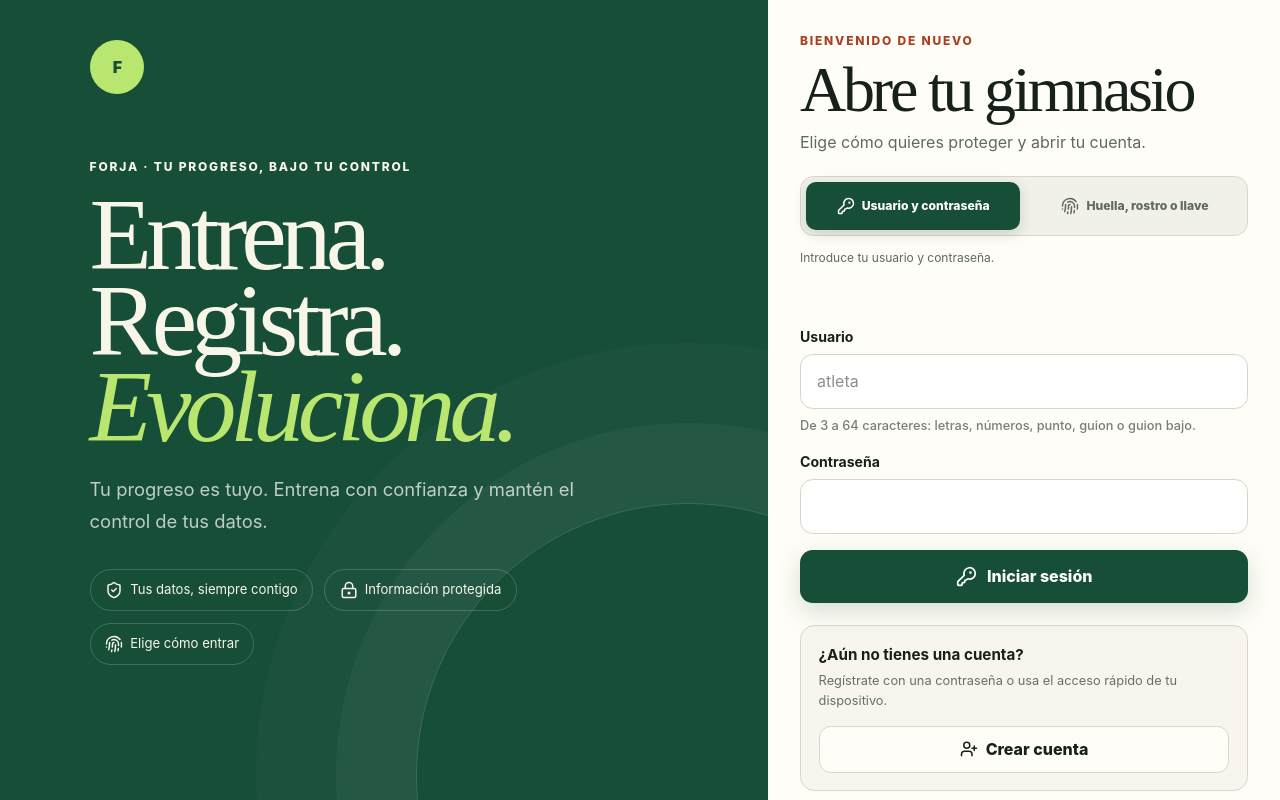
AuthScreen › replaces internal access errors with useful guidance
Click the button "Huella, rostro o llave" at (1135, 206), box [1028,182,1242,230]
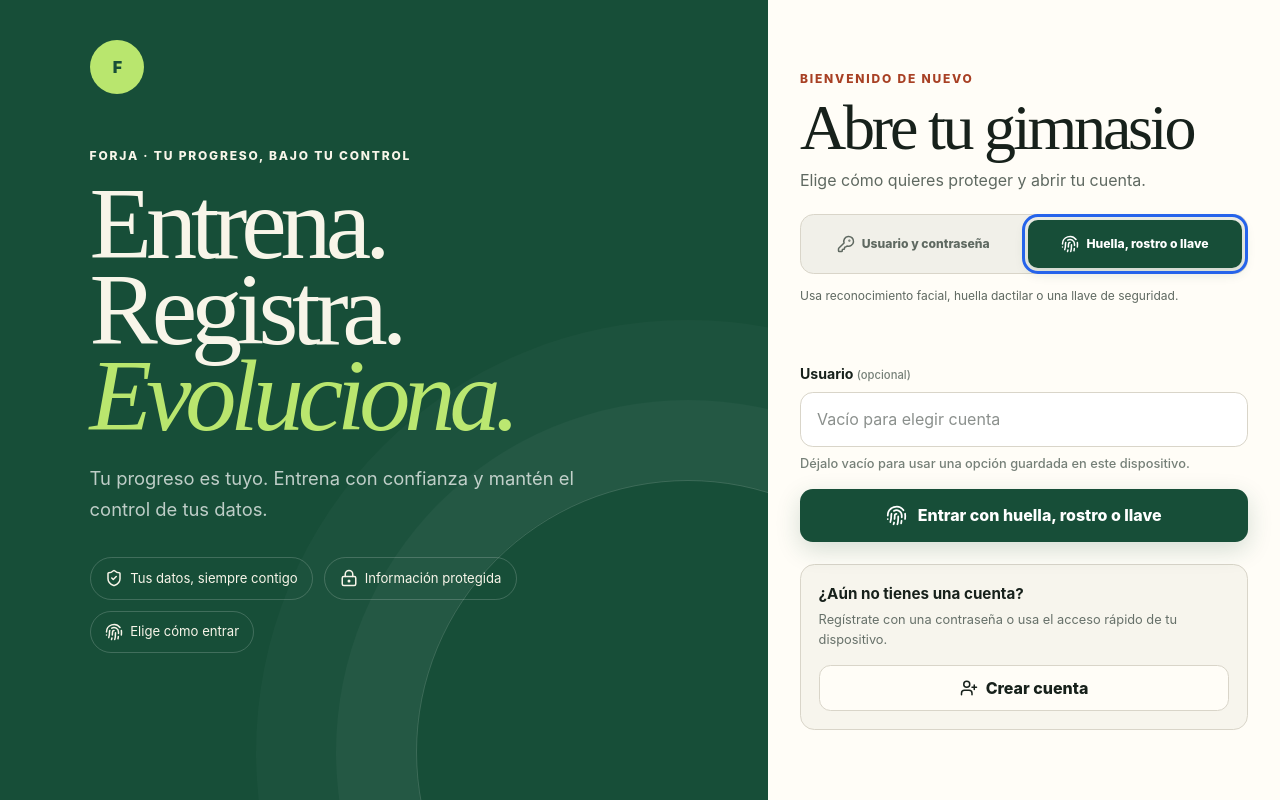
Click the button "Entrar con huella, rostro o llave" at (1024, 515), box [800,489,1248,542]
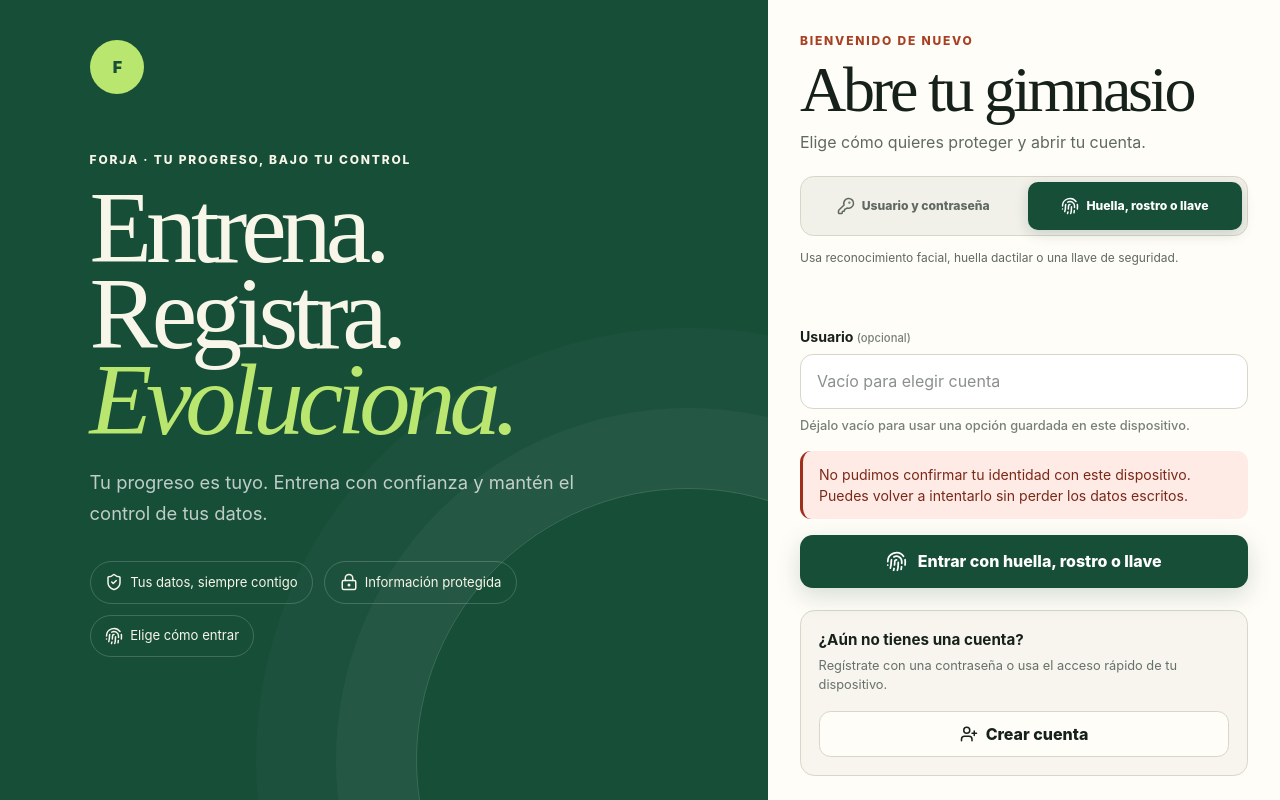
Now the message shows "No pudimos confirmar tu identidad con este dispositivo.", box [819,466,1191,483]
